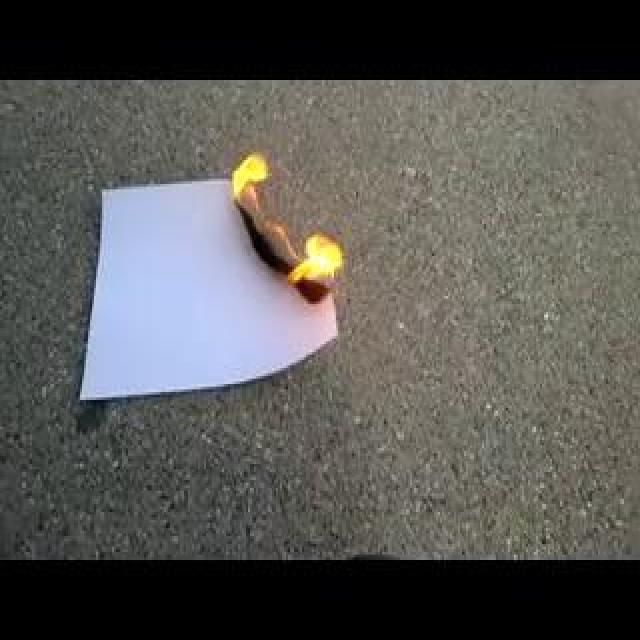Fire: (134, 166, 292, 230)
